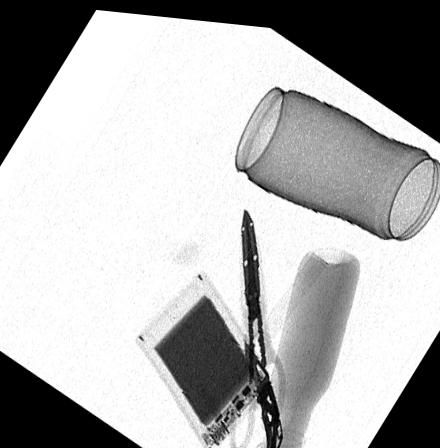Knife: (243, 338, 285, 448)
Powerbank: (132, 261, 274, 448)
Scissors: (225, 204, 283, 448)
